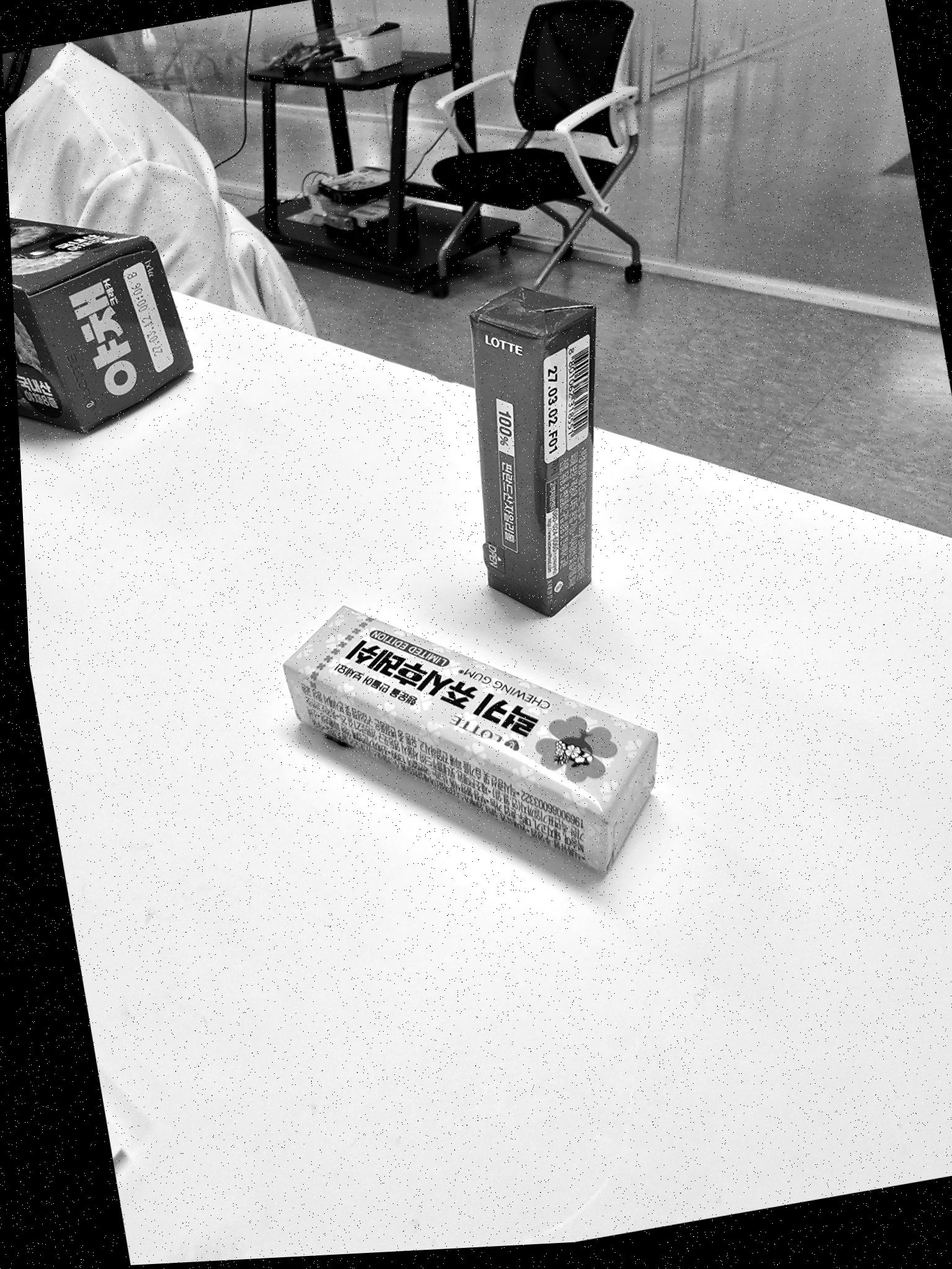gum_green: (470, 287, 595, 616)
gum_yellow: (284, 607, 657, 872)
